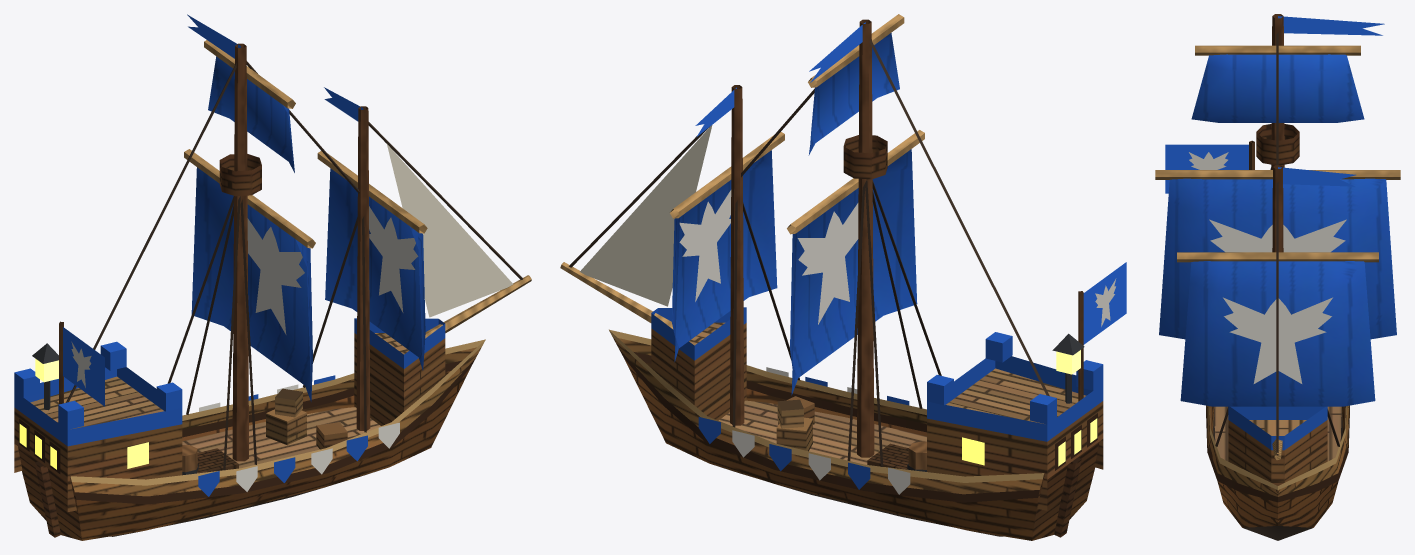
File: warship_blue.glb
3 renders of one model, left to right at view 1: azimuth 30°, elevation 25°; view 2: azimuth 150°, elevation 25°; view 3: azimuth 270°, elevation 25°, orthographic. The views are drawn at different scales.
Visible parts, largest first — view 1: warship_blue; view 2: warship_blue; view 3: warship_blue.
Part boxes in pixels (x1,y1,x2,y2): warship_blue: (14,14,531,540); warship_blue: (560,14,1126,540); warship_blue: (1155,14,1400,540).
Bounding box in the file's own units: 0.785 × 0.705 × 0.34.
3 materials, 1 textured.
